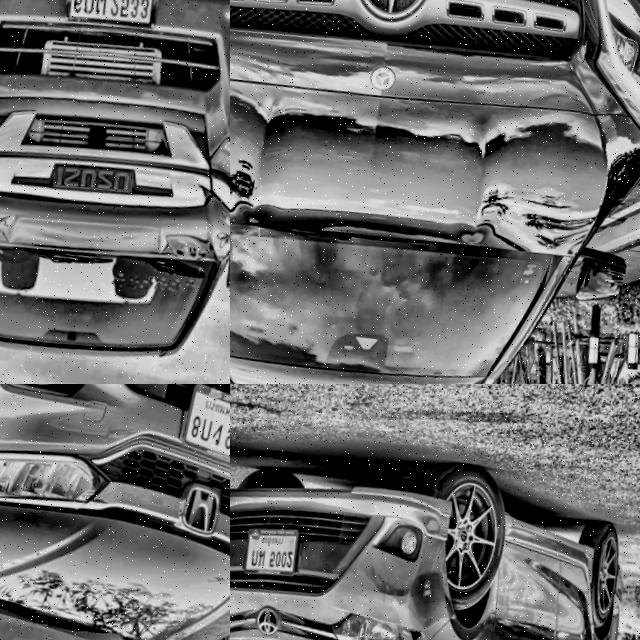license-plate: (165, 384, 230, 486), (230, 515, 304, 589), (54, 0, 165, 48)
